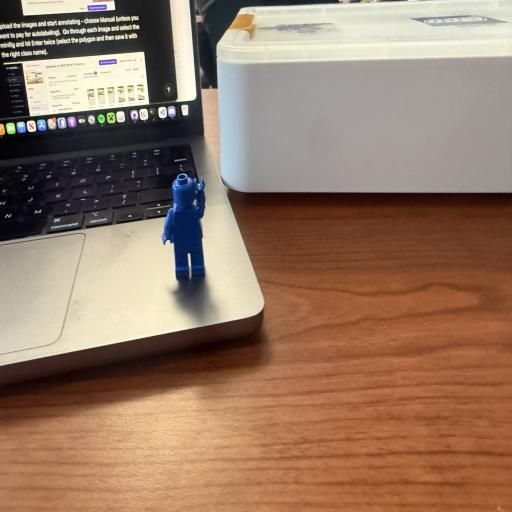Minifig: (162, 177, 204, 276)
